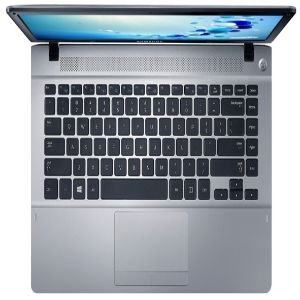keyboard: (34, 81, 270, 204)
